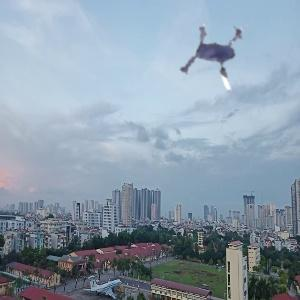drone: (161, 12, 277, 128)
